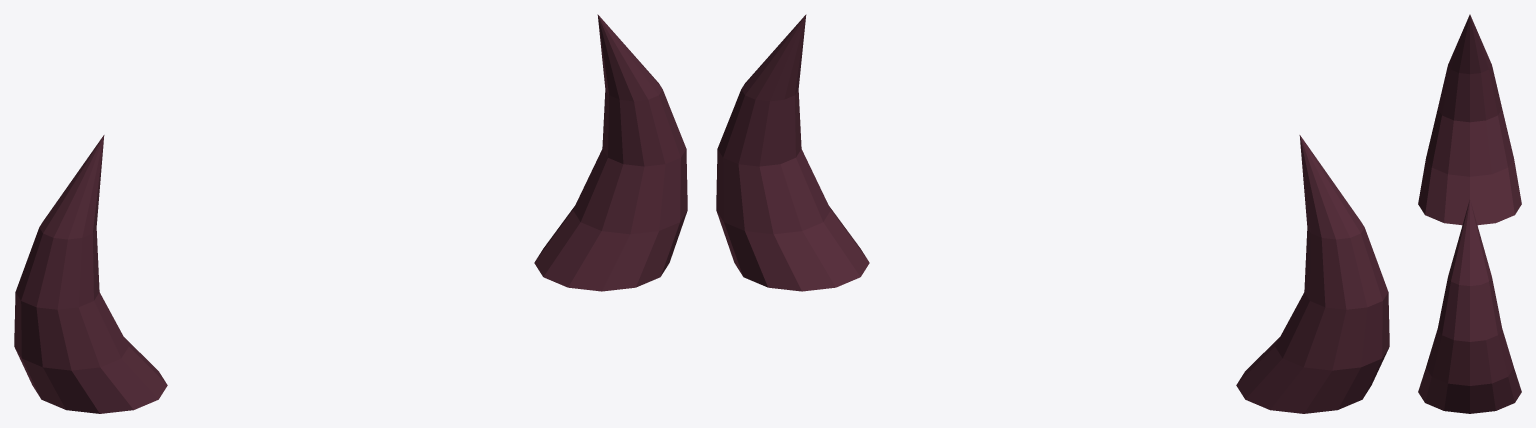
File: Demon_horns.fbx
The picture shows the model from 3 angles, left to right: view 1: azimuth 30°, elevation 25°; view 2: azimuth 150°, elevation 25°; view 3: azimuth 270°, elevation 25°; orthographic projection. The views are drawn at different scales.
Visible parts, largest first — view 1: 실린더.001; view 2: 실린더.001; view 3: 실린더.001.
Boxes of the visible parts, box(x1,y1,x2,y2) form: 실린더.001: box(14, 14, 687, 413); 실린더.001: box(716, 14, 1389, 413); 실린더.001: box(1418, 14, 1521, 413).
Size of the model in its own units: 18.63 by 6.74 by 3.31.
